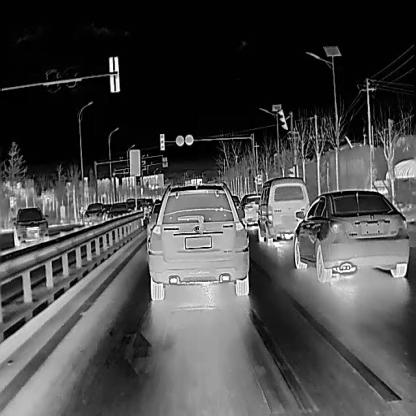car: (146, 179, 248, 301), (293, 189, 409, 283), (256, 176, 310, 244), (11, 204, 48, 249), (239, 193, 261, 228), (107, 200, 132, 225), (83, 201, 107, 226)
